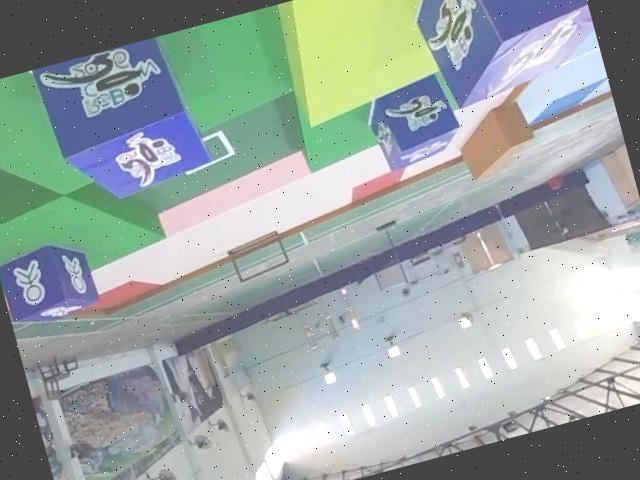R1 Blue: (32, 30, 217, 212), (401, 0, 604, 109), (357, 68, 467, 175)
R2 Real Blue: (0, 233, 100, 332)
